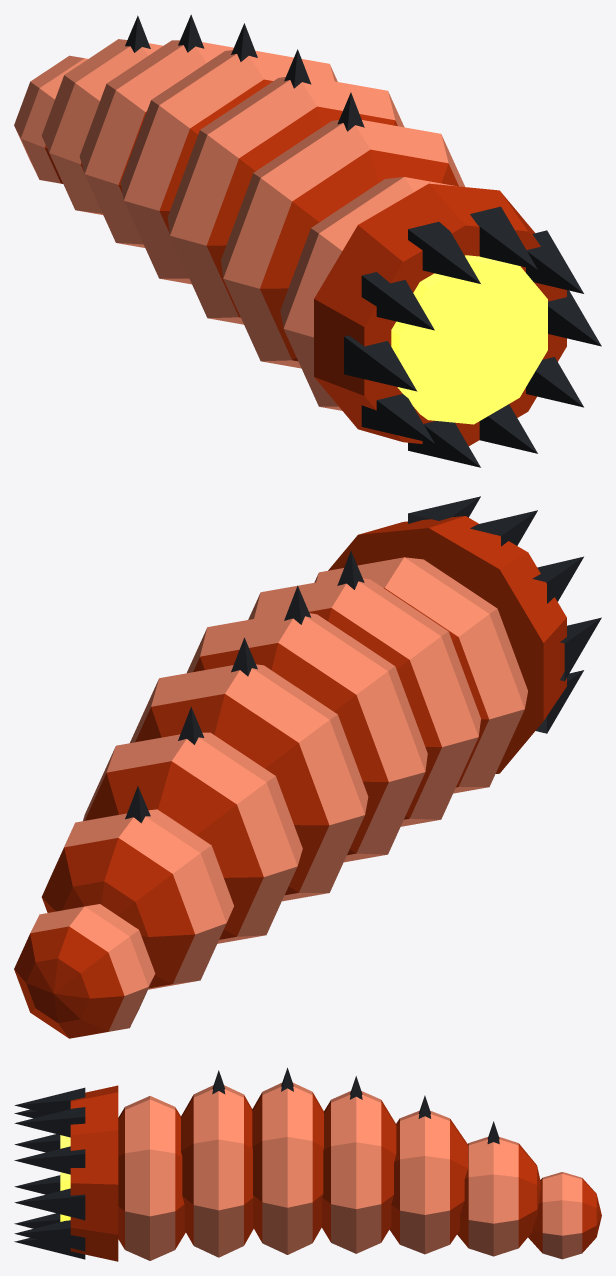
The model's file is grub.glb.
3 renders of one model, top to bottom at view 1: azimuth 30°, elevation 25°; view 2: azimuth 150°, elevation 25°; view 3: azimuth 270°, elevation 25°, orthographic. The views are drawn at different scales.
Visible parts, largest first — view 1: head, seg_2, seg_3, seg_4, seg_5, seg_1, seg_6, seg_7; view 2: seg_4, seg_5, seg_3, head, seg_6, seg_2, seg_7, seg_1; view 3: head, seg_2, seg_3, seg_4, seg_1, seg_5, seg_6, seg_7.
Boxes of the visible parts, x1=… form: head: x1=314, y1=183, x2=601, y2=467; seg_2: x1=221, y1=92, x2=464, y2=368; seg_3: x1=167, y1=49, x2=404, y2=324; seg_4: x1=120, y1=23, x2=337, y2=284; seg_5: x1=79, y1=14, x2=233, y2=247; seg_1: x1=280, y1=177, x2=456, y2=410; seg_6: x1=41, y1=15, x2=162, y2=214; seg_7: x1=14, y1=55, x2=87, y2=183; seg_4: x1=130, y1=637, x2=368, y2=901; seg_5: x1=83, y1=707, x2=302, y2=943; seg_3: x1=187, y1=585, x2=427, y2=862; head: x1=328, y1=496, x2=601, y2=773; seg_6: x1=41, y1=786, x2=233, y2=989; seg_2: x1=248, y1=551, x2=480, y2=826; seg_7: x1=14, y1=904, x2=155, y2=1038; seg_1: x1=314, y1=557, x2=527, y2=793; head: x1=14, y1=1085, x2=118, y2=1261; seg_2: x1=181, y1=1070, x2=253, y2=1257; seg_3: x1=252, y1=1067, x2=323, y2=1254; seg_4: x1=322, y1=1076, x2=396, y2=1253; seg_1: x1=118, y1=1096, x2=185, y2=1260; seg_5: x1=389, y1=1095, x2=467, y2=1254; seg_6: x1=457, y1=1121, x2=540, y2=1256; seg_7: x1=528, y1=1172, x2=601, y2=1259.
Size of the model in its own units: 3.6 by 3.97 by 11.12.
